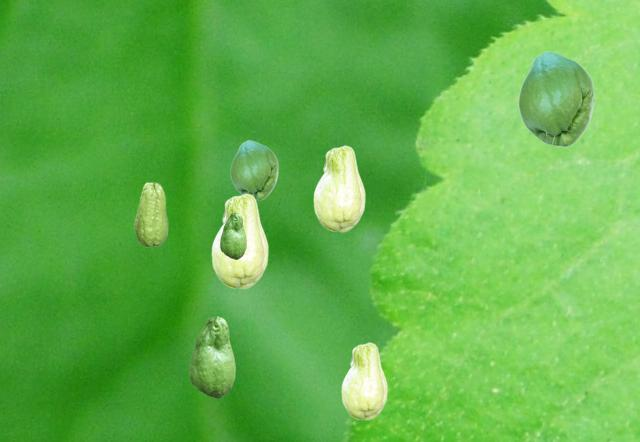sayote: (518, 51, 593, 146), (211, 193, 267, 288), (313, 145, 364, 231), (189, 316, 234, 397), (341, 342, 386, 419), (230, 140, 277, 199), (134, 182, 167, 246), (220, 212, 245, 258)
